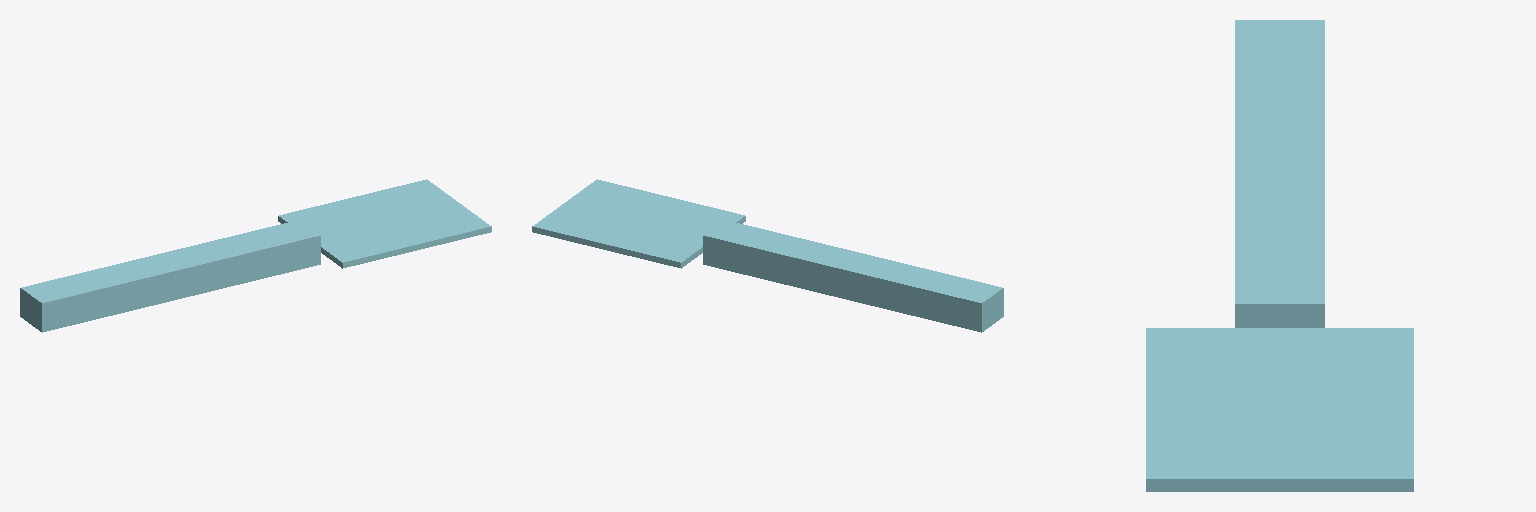
The robot description file, URDF, robot "small_spatula":
<?xml version="1.0"?>
<robot name="small_spatula">

  <link name="small_spatula">
    <!-- Handle -->
    <visual>
      <origin xyz="0 0 0" rpy="0 0 0"/>
      <geometry>
        <box size="0.15 0.02 0.015"/>
      </geometry>
      <material name="material">
        <color rgba="0.639 0.847 0.882 1.0"/>
      </material>
    </visual>
    <collision>
      <origin xyz="0 0 0" rpy="0 0 0"/>
      <geometry>
        <box size="0.15 0.02 0.015"/>
      </geometry>
    </collision>

    <!-- Head -->
    <visual>
      <origin xyz="0.11499999999999999 0 0" rpy="0 0 0"/>
      <geometry>
        <box size="0.08 0.06 0.003"/>
      </geometry>
      <material name="material">
        <color rgba="0.639 0.847 0.882 1.0"/>
      </material>
    </visual>
    <collision>
      <origin xyz="0.11499999999999999 0 0" rpy="0 0 0"/>
      <geometry>
        <box size="0.08 0.06 0.003"/>
      </geometry>
    </collision>

    <inertial>
      <density value="400.0"/>
    </inertial>
  </link>

</robot>

--- What the picture shows (computed from the rendered views, not written in the file) ---
The picture shows the robot from 3 angles, left to right: view 1: azimuth 30°, elevation 25°; view 2: azimuth 150°, elevation 25°; view 3: azimuth 270°, elevation 25°; orthographic projection.
Model small_spatula with 1 links and 0 joints (none), rooted at small_spatula, posed all joints at 0.
Links seen in each view (by area): view 1: small_spatula; view 2: small_spatula; view 3: small_spatula.
Link boxes in pixels (left/top/right/bottom): small_spatula: left=20, top=179, right=491, bottom=332; small_spatula: left=532, top=179, right=1003, bottom=332; small_spatula: left=1146, top=20, right=1413, bottom=491.
Size in the robot's own frame: 0.23 by 0.06 by 0.015 metres.
Geometry: primitives only (box / cylinder / sphere), no mesh files.
